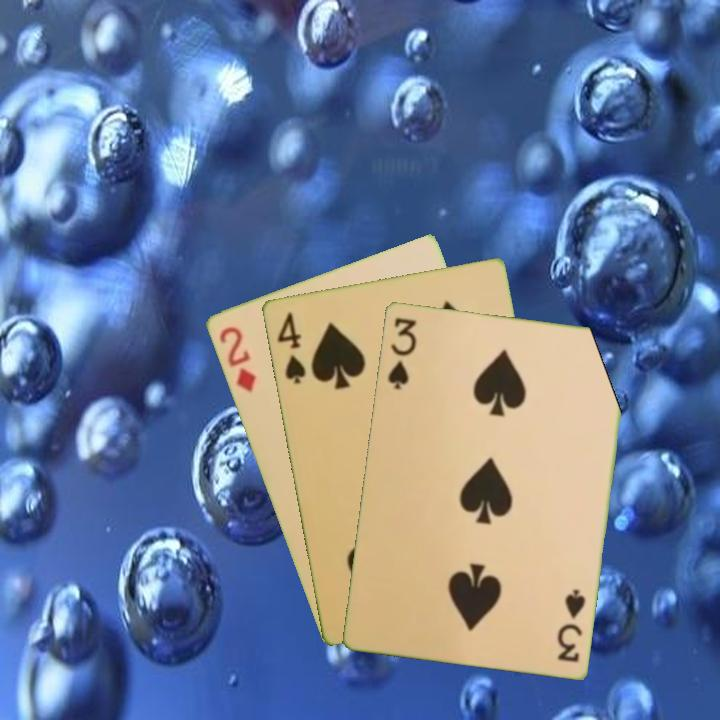2d: (215, 322, 259, 395)
3s: (553, 585, 588, 665), (384, 313, 419, 392)
4s: (273, 308, 308, 387)
